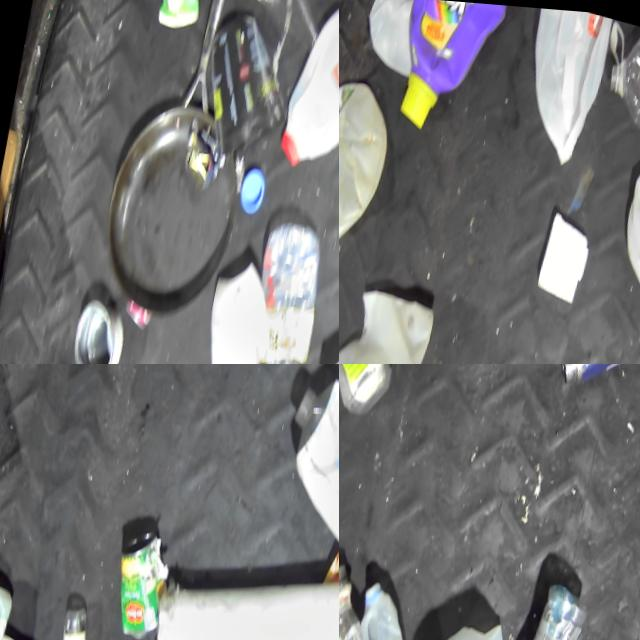can: (99, 515, 172, 640), (64, 289, 129, 364)
milk_jug: (258, 364, 339, 597), (511, 1, 614, 168), (272, 0, 339, 183), (339, 63, 398, 252), (339, 273, 436, 364), (340, 573, 438, 640), (609, 112, 640, 315), (356, 0, 430, 80)
non_white_jug: (389, 0, 510, 141)
plastic_bottle: (234, 214, 329, 364), (599, 12, 640, 157), (36, 590, 102, 640)
